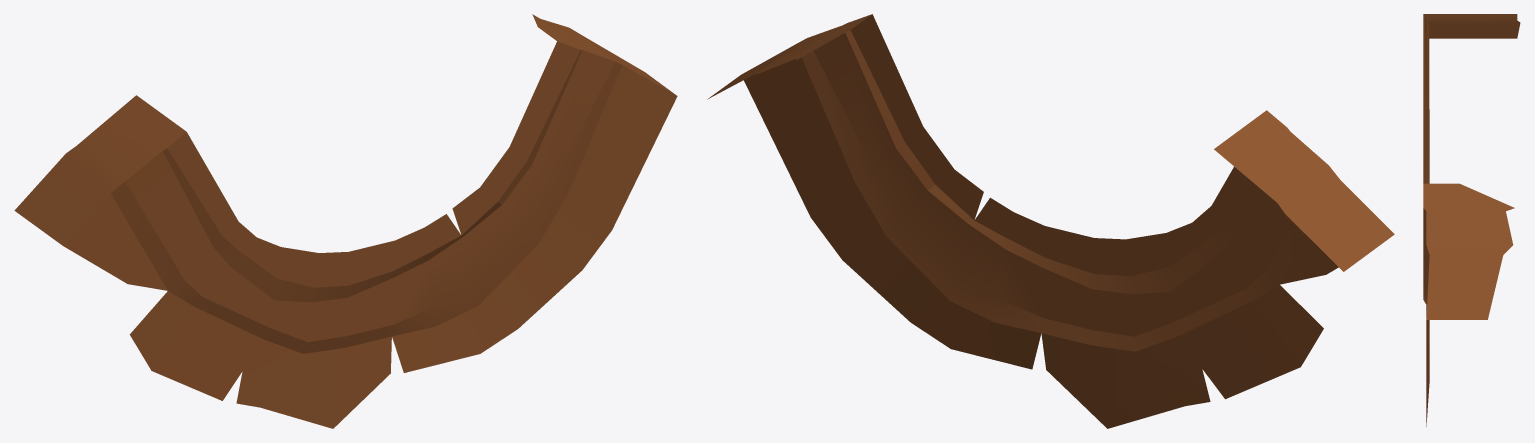
File: Flag_RoundArch.glb
3 views of the same model, side by side, from view 1: azimuth 30°, elevation 25°; view 2: azimuth 150°, elevation 25°; view 3: azimuth 270°, elevation 25° (orthographic). The views are drawn at different scales.
Visible parts, largest first — view 1: Flag_RoundArch; view 2: Flag_RoundArch; view 3: Flag_RoundArch.
Boxes of the visible parts, x1=… form: Flag_RoundArch: x1=14, y1=14, x2=677, y2=428; Flag_RoundArch: x1=707, y1=14, x2=1394, y2=428; Flag_RoundArch: x1=1423, y1=14, x2=1520, y2=426.
Bounding box in the file's own units: 2.17 × 1.13 × 0.316.
